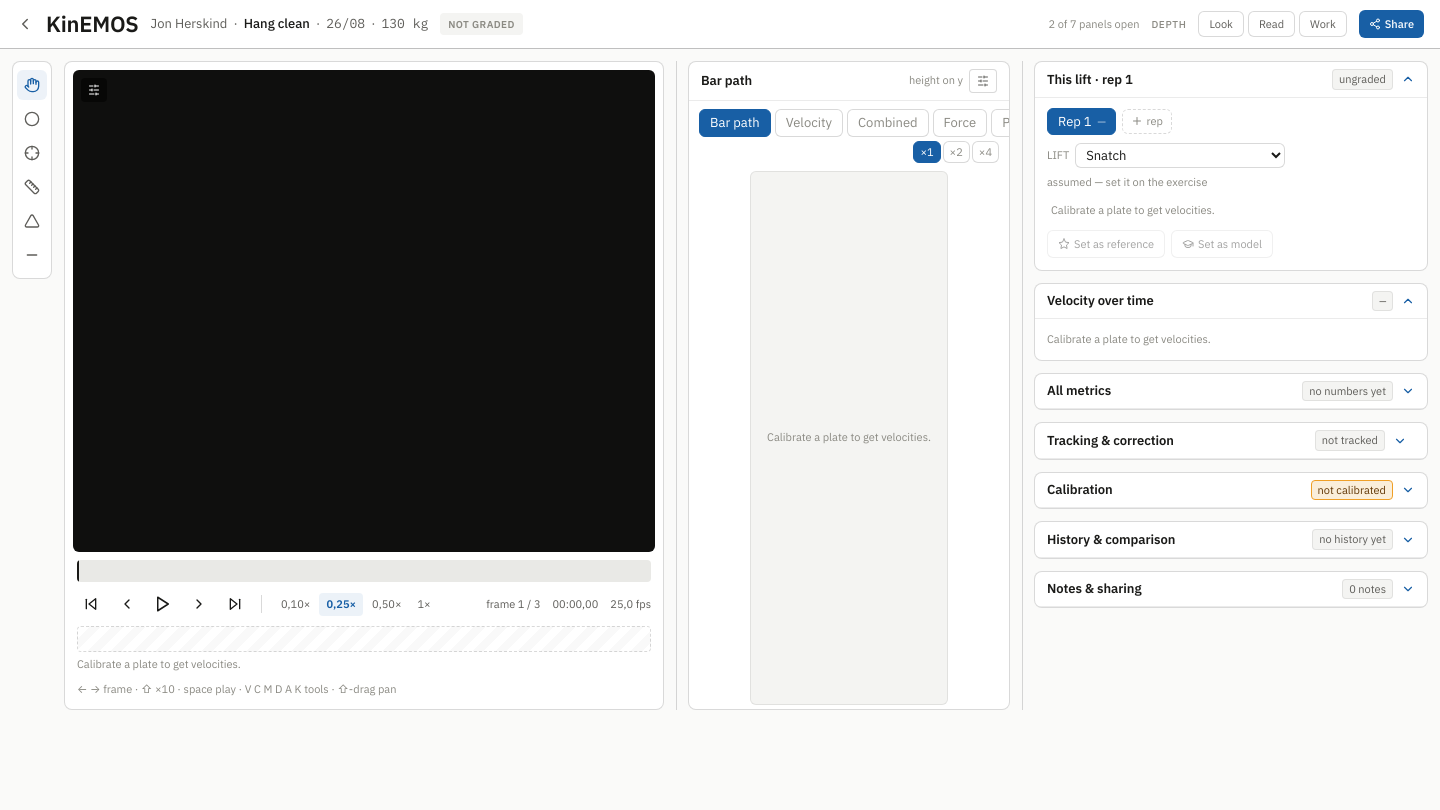
Test: KinemosViewer › offers the bar mass, and says what it is for
Expected: the text "Hang clean" is shown, [244, 14, 310, 34]
Click the button "All metrics no numbers yet": (1079, 391) [1035, 374, 1427, 408]
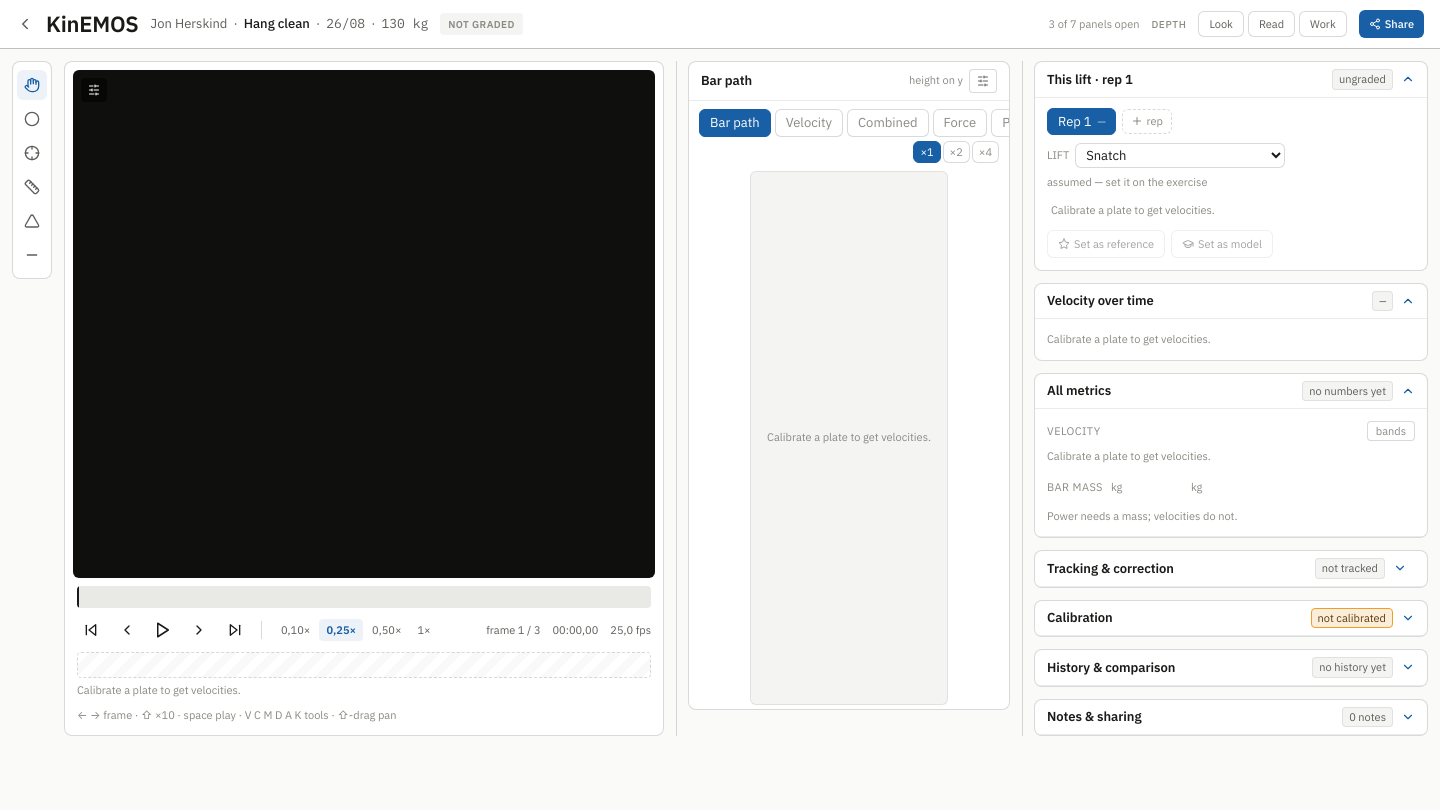
Result: the text "BAR MASS" is shown at [1047, 478, 1103, 495]
Result: the text "Power needs a mass; velocities do not." is shown at [1047, 509, 1238, 523]
